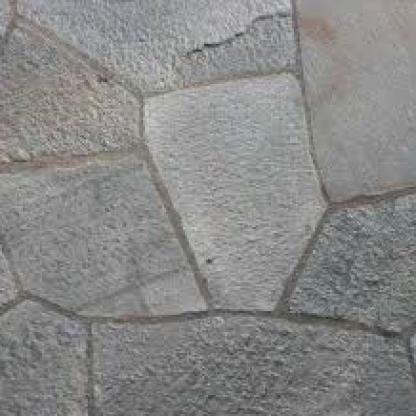Metamorphic_Quartize: (132, 66, 358, 320), (14, 132, 218, 344)
